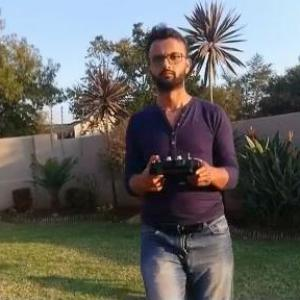follow: (123, 20, 244, 299)
